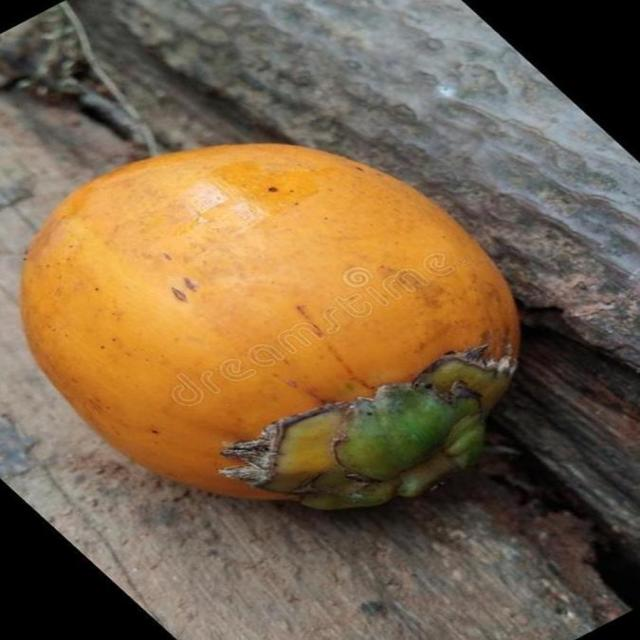good: (20, 142, 522, 514)
